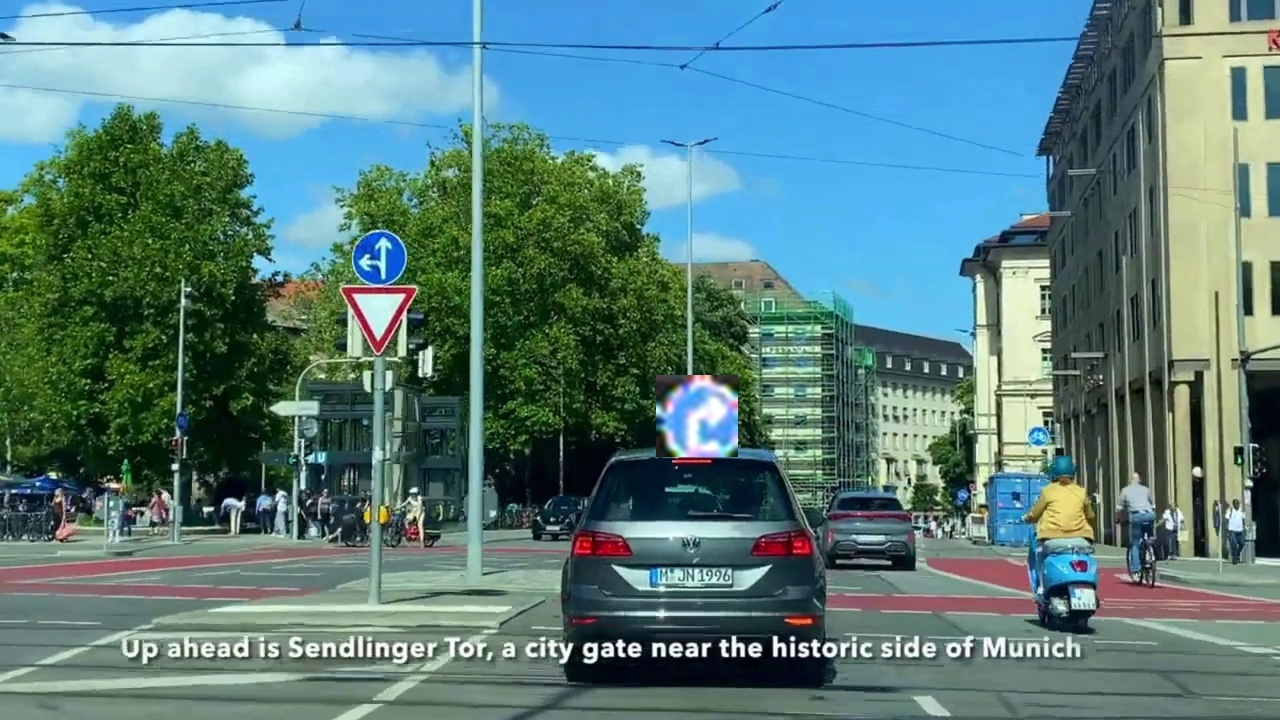Turn right: (656, 375, 738, 457)
